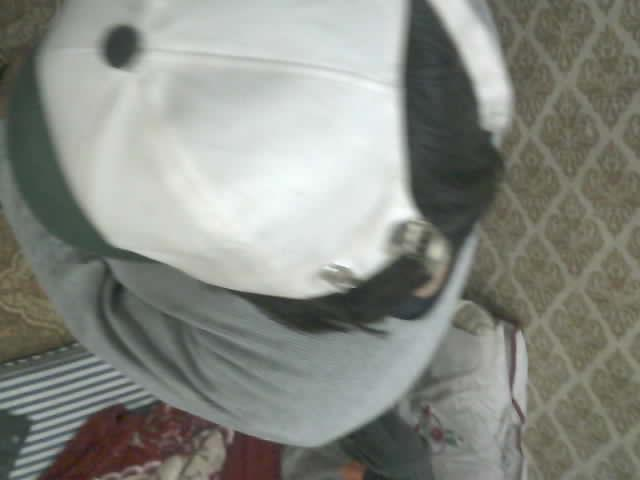cap: (2, 0, 515, 323)
